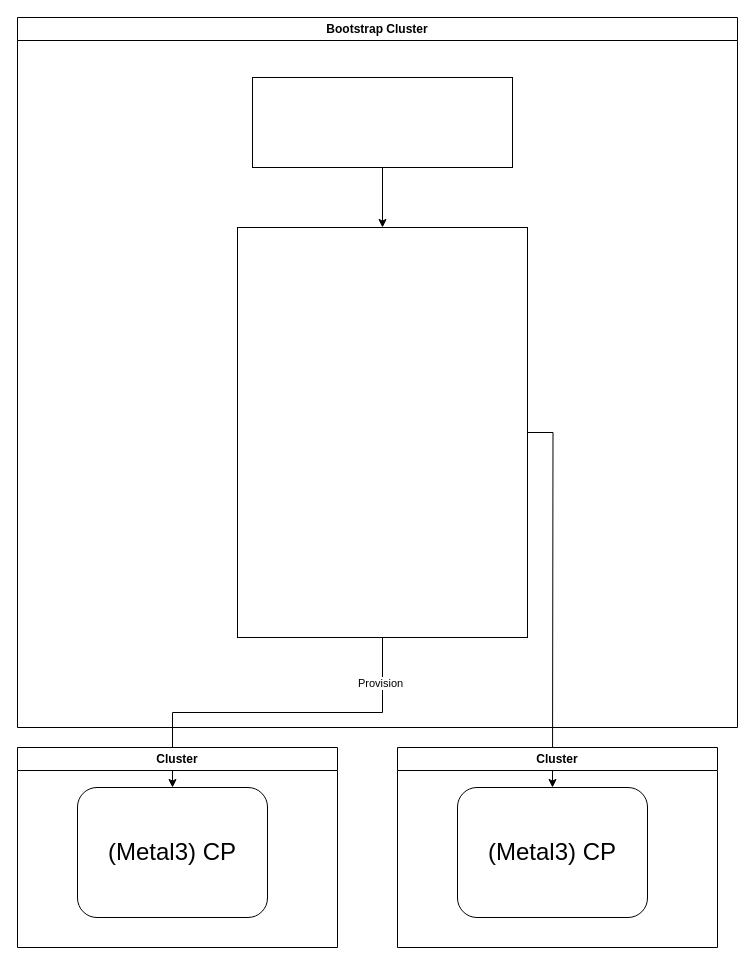
Some shapes in this 755 by 965 pixel diagram are drawn without their labels. The centre of each missing label's shape, as x and y in pixels:
"CAPI Controller" belongs at (x=382, y=122).
"Metal3 Components" belongs at (x=382, y=432).
